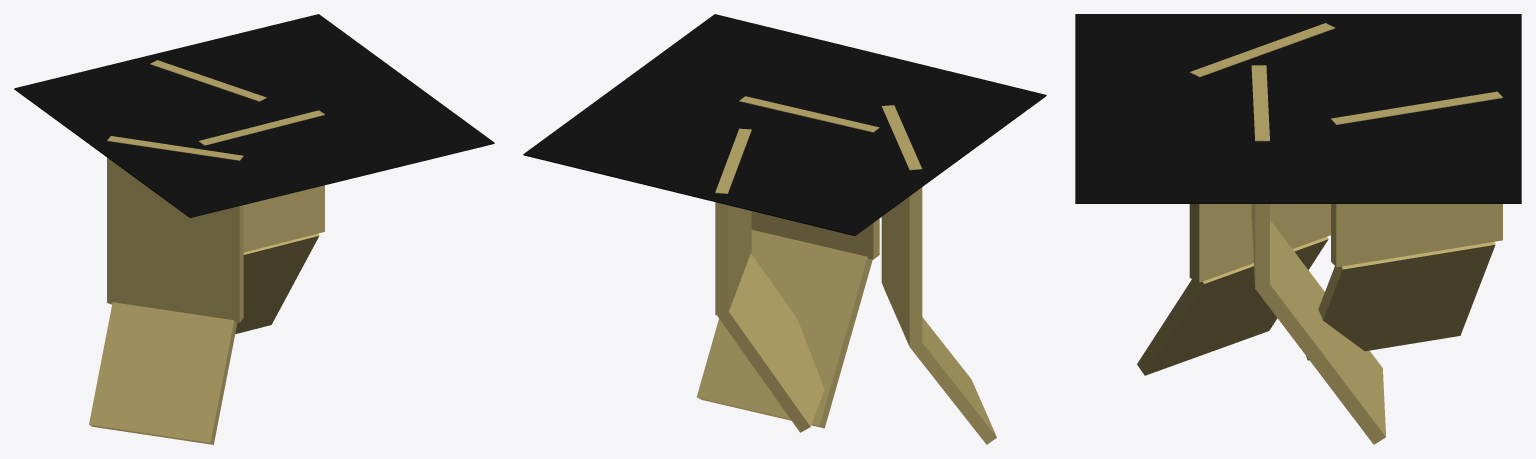
File: tile_hole.fbx
3 views of the same model, side by side, from view 1: azimuth 30°, elevation 25°; view 2: azimuth 150°, elevation 25°; view 3: azimuth 270°, elevation 25° (orthographic). The views are drawn at different scales.
Visible parts, largest first — view 1: tile_hole; view 2: tile_hole; view 3: tile_hole.
Boxes of the visible parts, x1=… form: tile_hole: x1=14, y1=14, x2=494, y2=444; tile_hole: x1=523, y1=14, x2=1046, y2=444; tile_hole: x1=1075, y1=14, x2=1521, y2=444.
Bounding box in the file's own units: 0.6549 × 0.4909 × 0.6.
